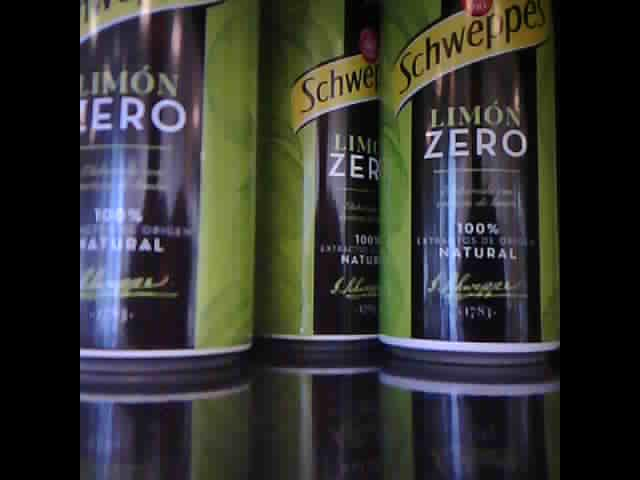schweppes: (79, 2, 261, 378), (378, 3, 557, 363), (259, 5, 381, 349)
